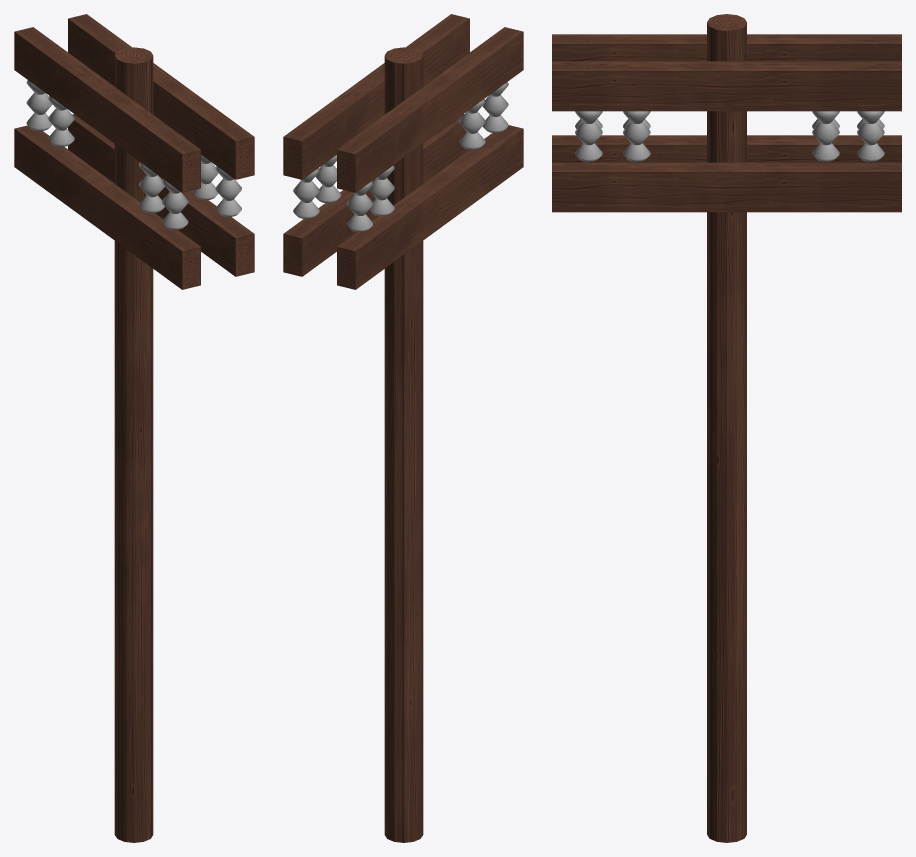
The model's file is SM_UtilityPole_Var_B.fbx.
The picture shows the model from 3 angles, left to right: view 1: azimuth 30°, elevation 25°; view 2: azimuth 150°, elevation 25°; view 3: azimuth 270°, elevation 25°; orthographic projection. The views are drawn at different scales.
Visible parts, largest first — view 1: SM_UtilityPole_Var_B; view 2: SM_UtilityPole_Var_B; view 3: SM_UtilityPole_Var_B.
Boxes of the visible parts, x1,y1,x2,y2 form: SM_UtilityPole_Var_B: (14, 14, 254, 842); SM_UtilityPole_Var_B: (283, 14, 523, 842); SM_UtilityPole_Var_B: (552, 14, 901, 842).
Size of the model in its own units: 0.6185 by 6 by 2.34.
Materials: 3 (2 with a texture image).
